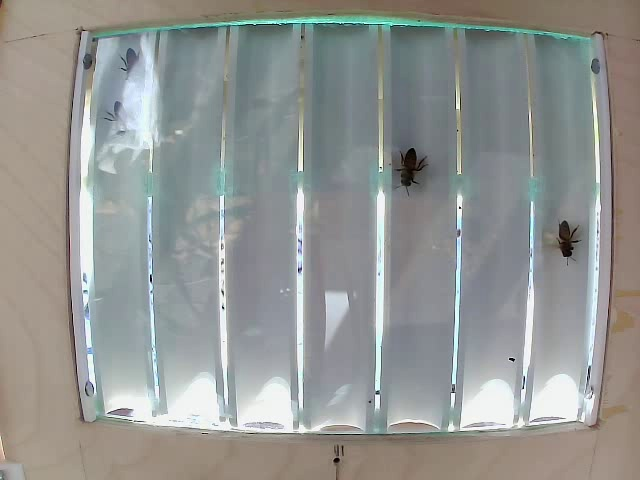bee: (389, 143, 443, 192), (545, 208, 585, 261), (114, 47, 159, 90), (99, 107, 143, 140)
